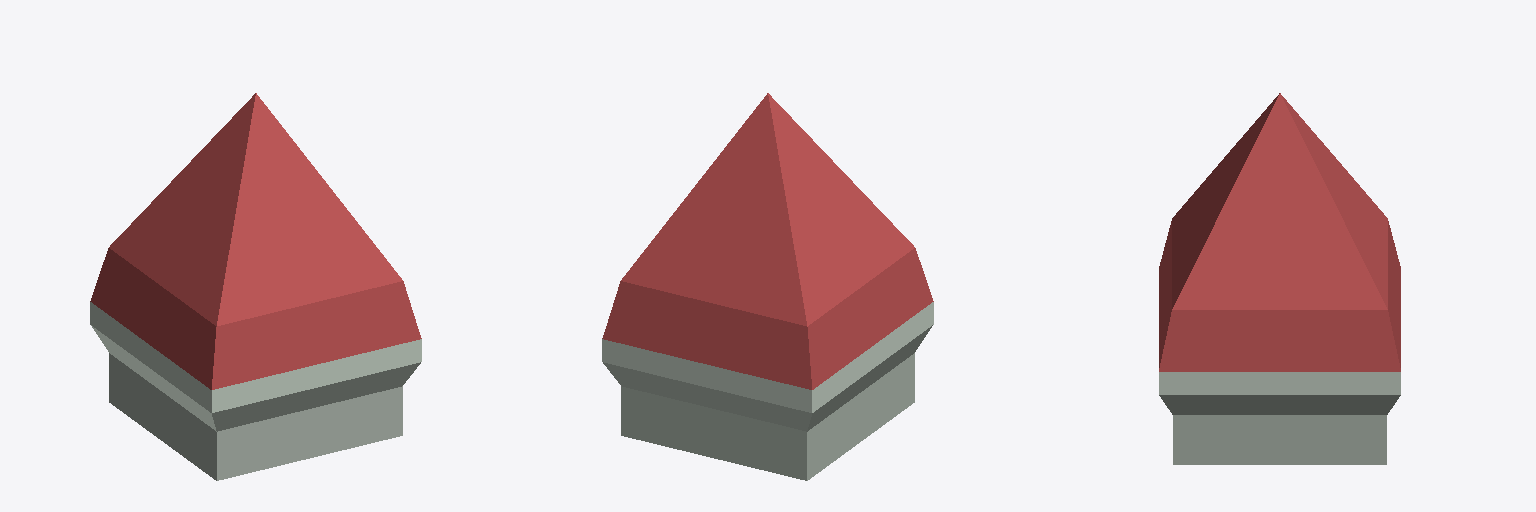
File: tile_053.obj
3 renders of one model, left to right at view 1: azimuth 30°, elevation 25°; view 2: azimuth 150°, elevation 25°; view 3: azimuth 270°, elevation 25°, orthographic.
Visible parts, largest first — view 1: tile_053; view 2: tile_053; view 3: tile_053.
Part boxes in pixels (x1,y1,x2,y2): tile_053: (90,93,421,480); tile_053: (602,93,933,480); tile_053: (1159,93,1400,464).
Size of the model in its own units: 0.6668 by 0.99 by 0.6668.